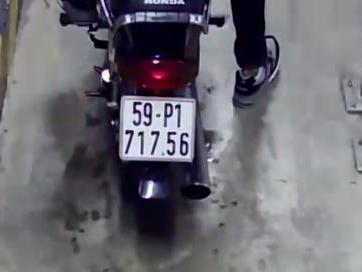num_plate: (120, 96, 196, 161)
